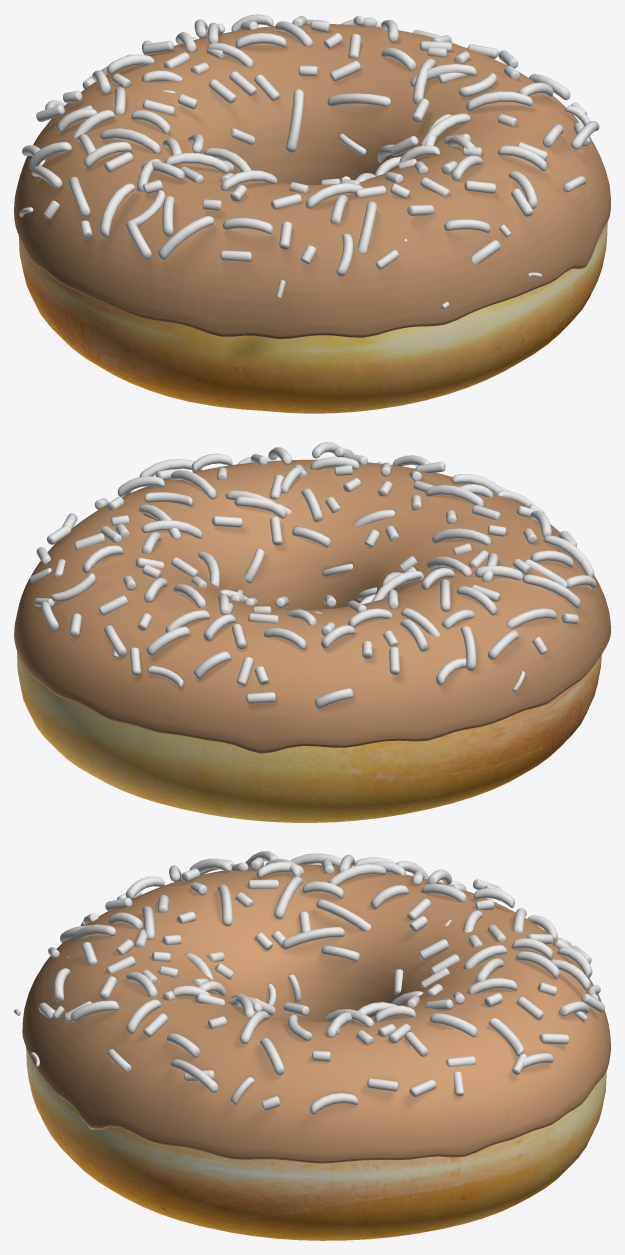
File: light white vermicheli.glb
3 views of the same model, one above another, from view 1: azimuth 30°, elevation 25°; view 2: azimuth 150°, elevation 25°; view 3: azimuth 270°, elevation 25° (orthographic). The views are drawn at different scales.
Visible parts, largest first — view 1: coffee.001, light, blue.002, Torus; view 2: light, coffee.001, blue.002, Torus; view 3: light, coffee.001, Torus, blue.002.
Boxes of the visible parts, x1=… form: coffee.001: x1=14, y1=24, x2=610, y2=338; light: x1=14, y1=24, x2=610, y2=339; blue.002: x1=19, y1=14, x2=599, y2=309; Torus: x1=18, y1=222, x2=607, y2=413; light: x1=14, y1=460, x2=606, y2=753; coffee.001: x1=14, y1=459, x2=610, y2=753; blue.002: x1=30, y1=442, x2=596, y2=709; Torus: x1=17, y1=651, x2=601, y2=822; light: x1=23, y1=864, x2=610, y2=1163; coffee.001: x1=22, y1=864, x2=610, y2=1163; Torus: x1=26, y1=1047, x2=606, y2=1240; blue.002: x1=14, y1=851, x2=604, y2=1114.
Bounding box in the file's own units: 0.1989 × 0.0773 × 0.2.
Materials: 4 (2 with a texture image).
